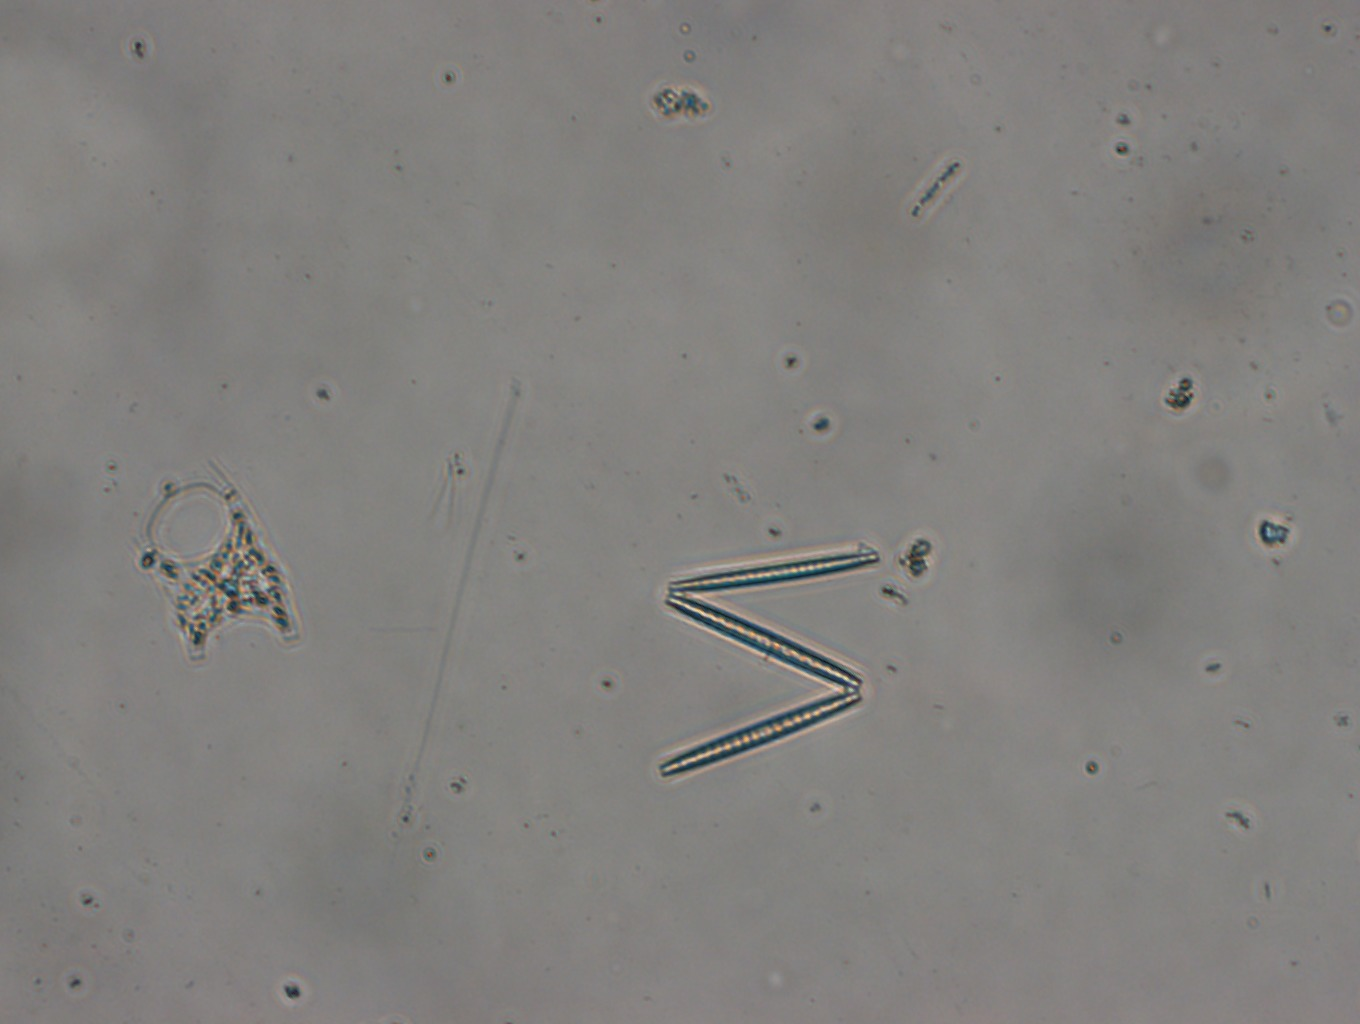thalassionema nitzschioides: (655, 542, 881, 780)
